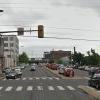Crosswalk: (2, 78, 93, 100)
